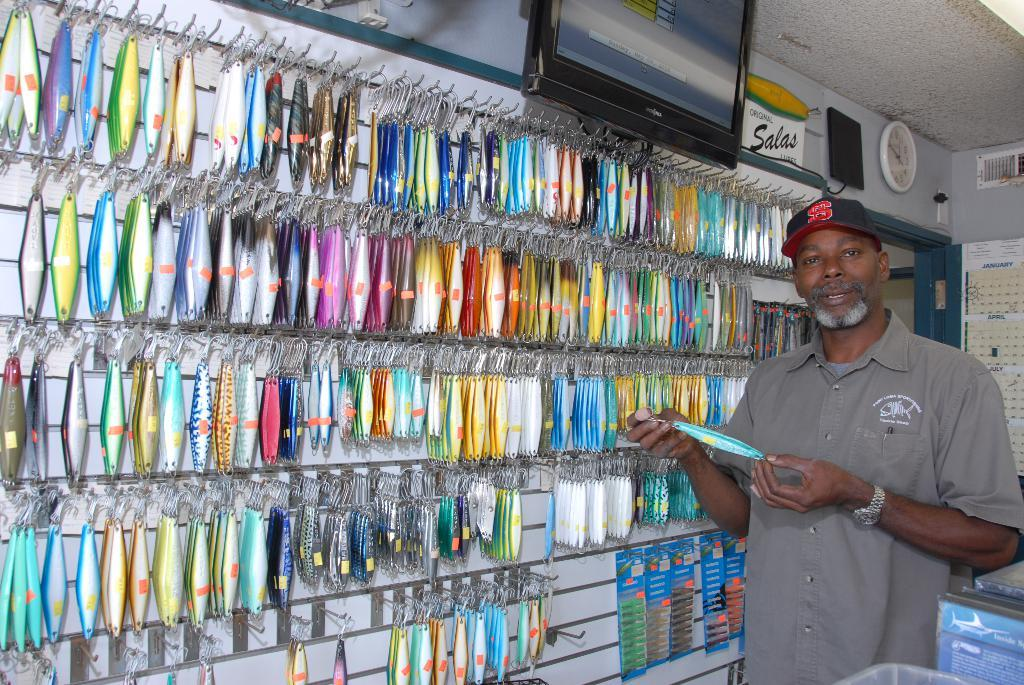Hat: (779, 199, 879, 257)
